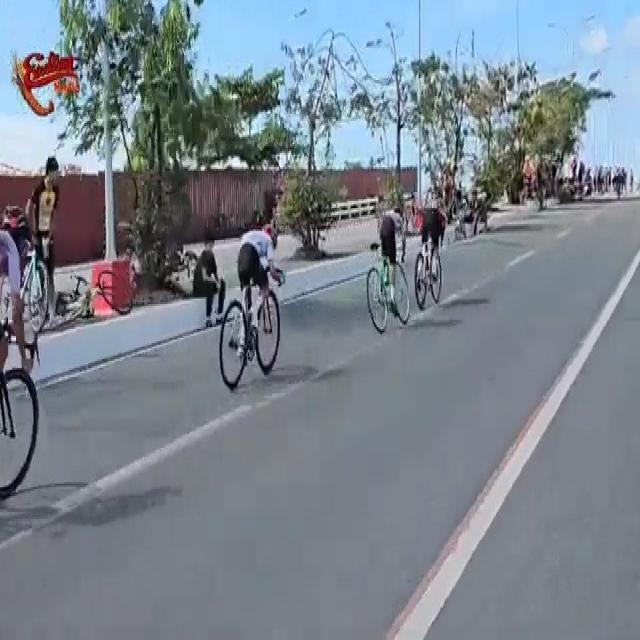bike: (219, 211, 285, 402), (0, 200, 41, 506), (365, 202, 412, 340), (14, 218, 54, 340), (416, 192, 446, 312)
